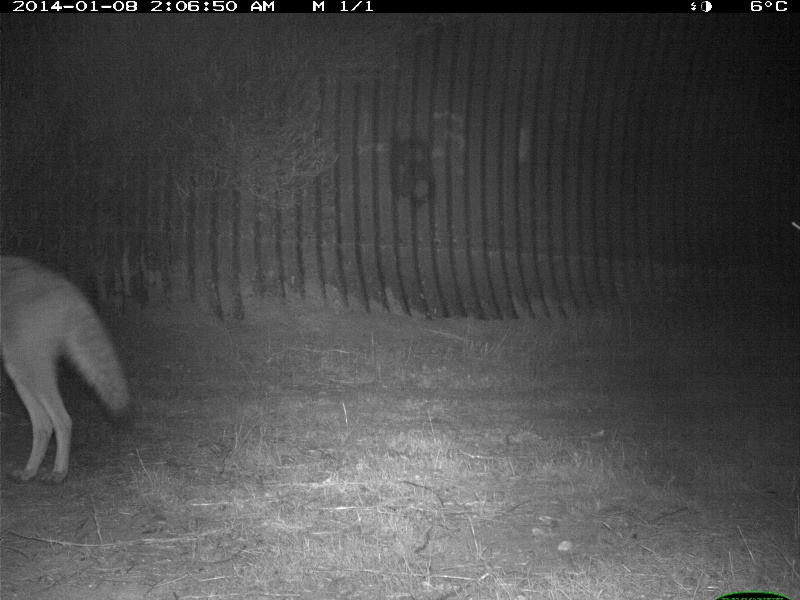coyote: (1, 243, 133, 485)
